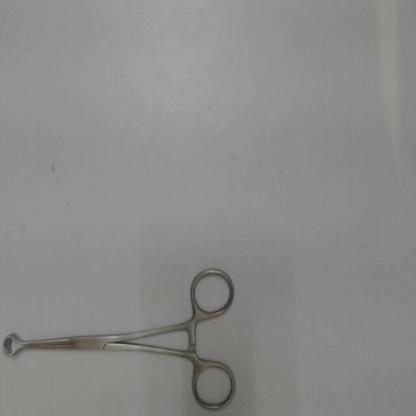Babcock Tissue Forceps: (1, 264, 241, 412)
